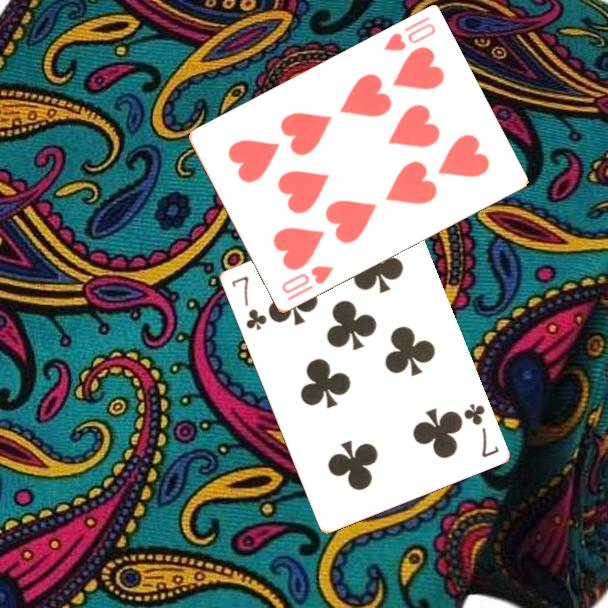c07: (227, 272, 269, 333), (460, 400, 502, 460)
h10: (278, 262, 336, 304), (380, 13, 438, 55)
